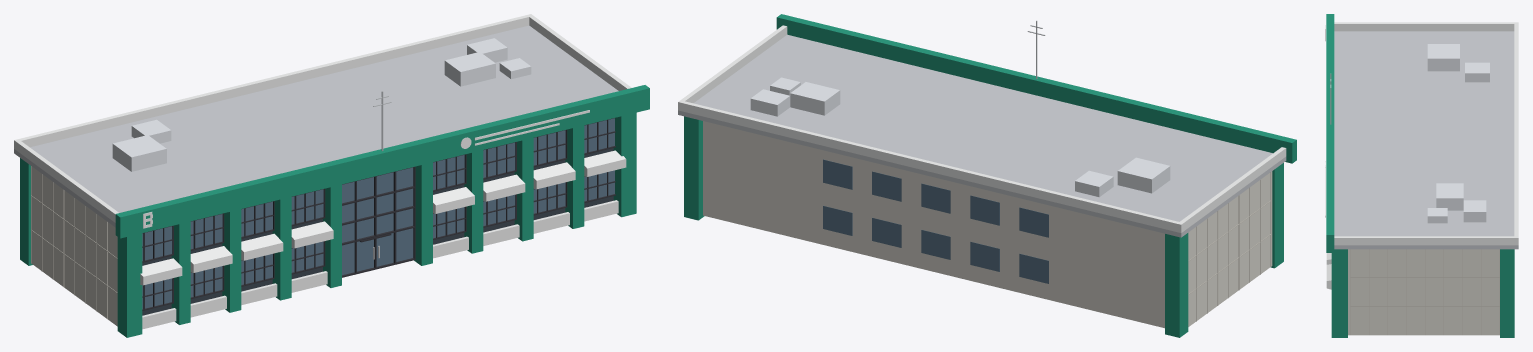
Rendered from asset.glb.
3 views of the same model, side by side, from view 1: azimuth 30°, elevation 25°; view 2: azimuth 150°, elevation 25°; view 3: azimuth 270°, elevation 25° (orthographic). The views are drawn at different scales.
Parts seen in each view (by area): view 1: Edificio_B_UAEH; view 2: Edificio_B_UAEH; view 3: Edificio_B_UAEH.
Part boxes in pixels (x1=…): Edificio_B_UAEH: x1=14, y1=14, x2=649, y2=337; Edificio_B_UAEH: x1=678, y1=14, x2=1296, y2=337; Edificio_B_UAEH: x1=1325, y1=14, x2=1518, y2=337.
Bounding box in the file's own units: 42 × 14 × 15.51.
